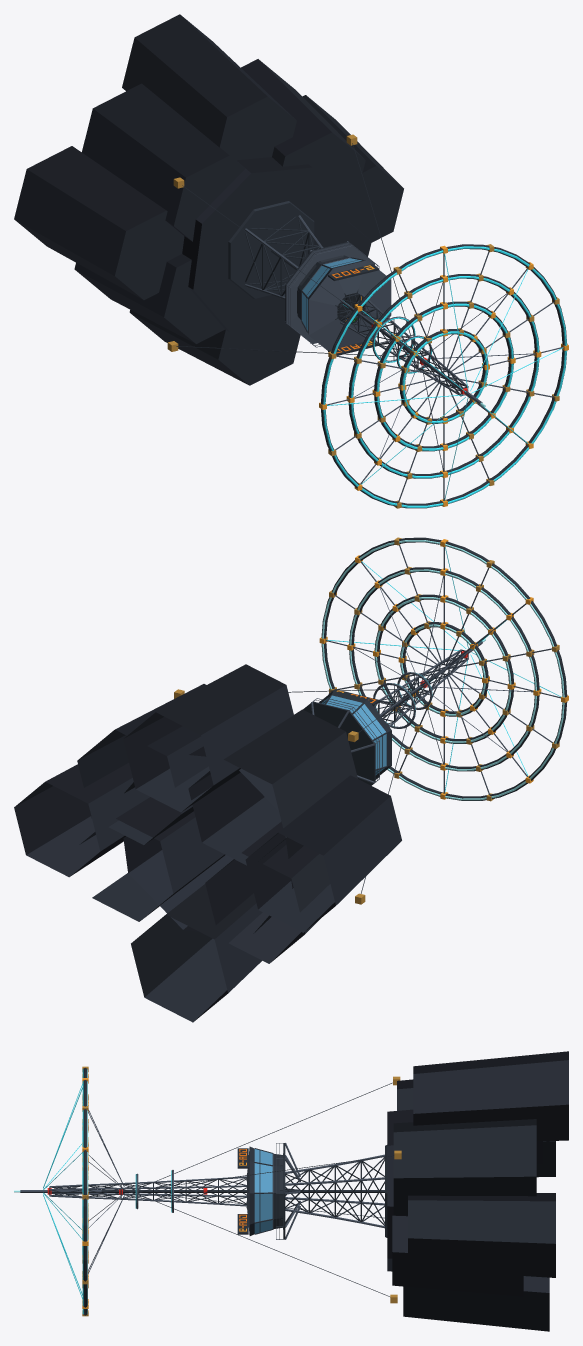
The model's file is gor9_tower.obj.
3 views of the same model, one above another, from view 1: azimuth 30°, elevation 25°; view 2: azimuth 150°, elevation 25°; view 3: azimuth 270°, elevation 25° (orthographic). The views are drawn at different scales.
Size of the model in its own units: 50.18 by 46.48 by 85.5.
